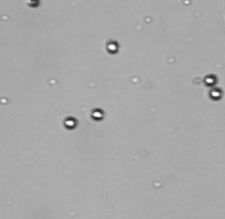Dead Cell: (26, 1, 39, 6)
Living Cell: (209, 86, 223, 101), (91, 108, 105, 120), (64, 116, 76, 129), (106, 41, 119, 53), (204, 74, 215, 85)
